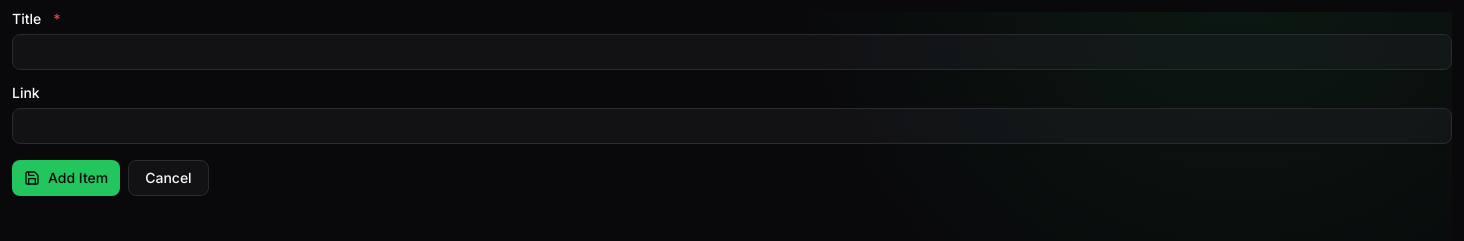
Test case: ItemForm › blocks submission when a required text field is empty
Click the button "Add Item" at (66, 178), box left=12, top=160, right=120, bottom=196
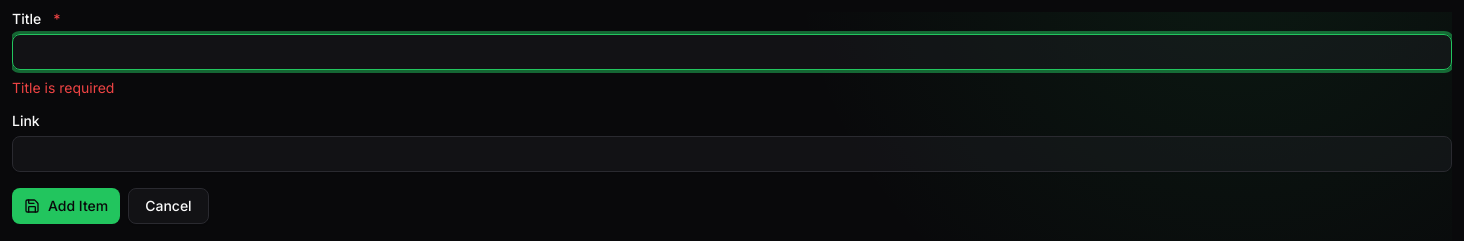
Result: the text "Title is required" is shown at left=12, top=79, right=114, bottom=96
